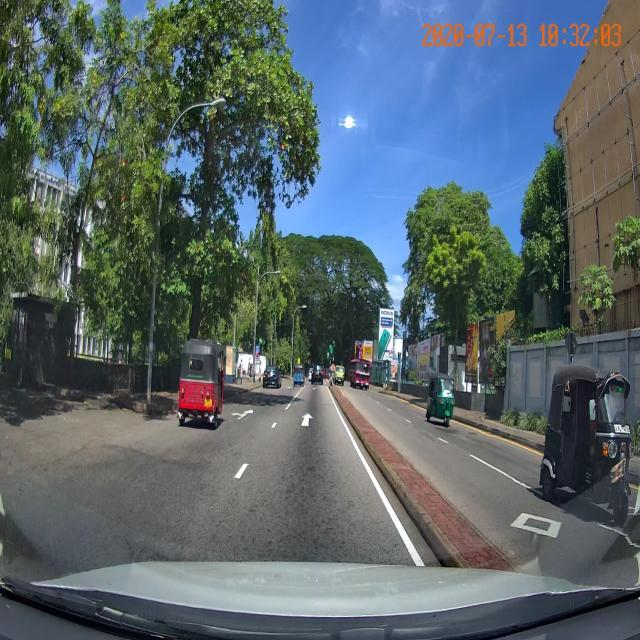forward: (263, 406, 356, 441)
